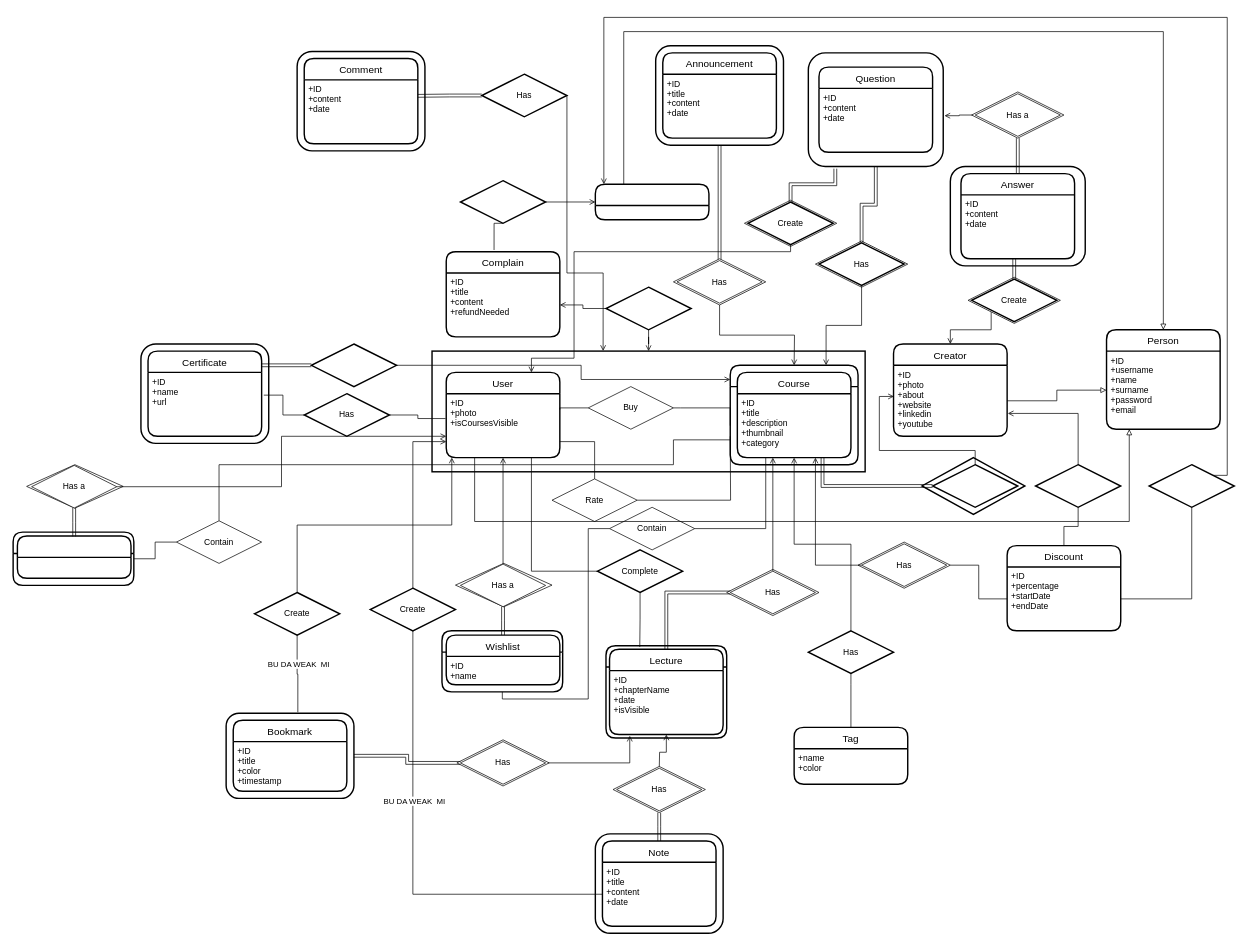
This 1247x946 diagram has some shape labels left out. The centre of each missing label's shape, as x and y in pixels:
Admin: (x=651, y=201)
Allow: (x=1077, y=486)
Approve: (x=502, y=202)
Cart: (x=73, y=557)
Certificate_of: (x=353, y=365)
Offers: (x=1191, y=486)
Publish: (x=975, y=486)
Request: (x=648, y=308)
